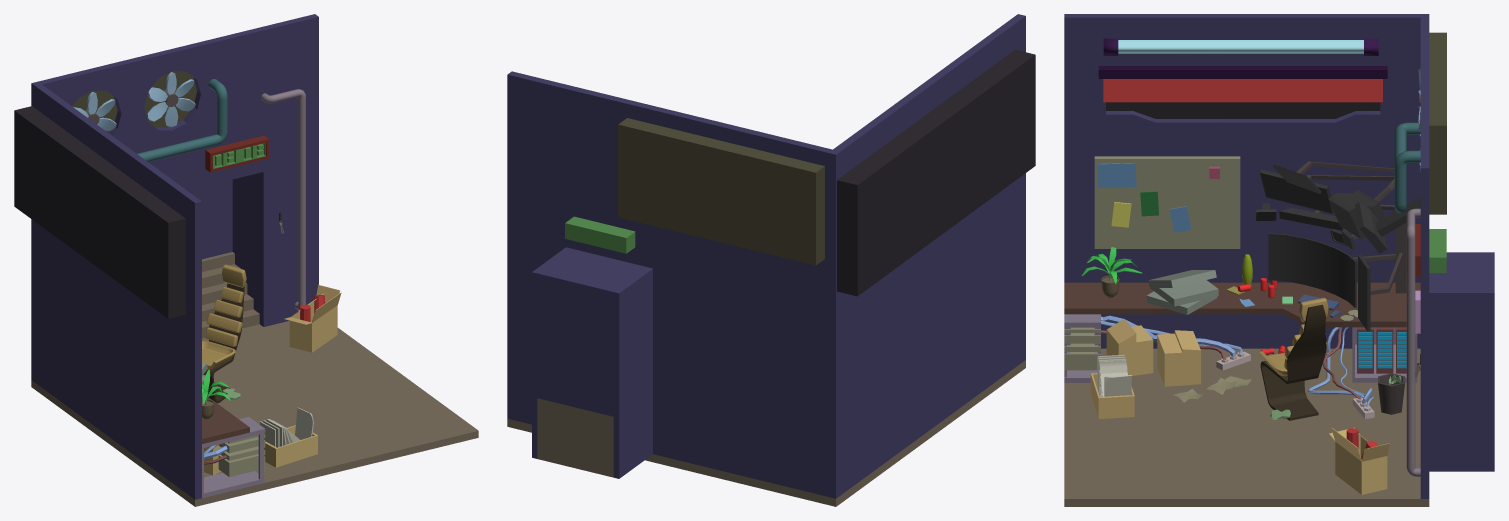
The model's file is isometric_room.glb.
The picture shows the model from 3 angles, left to right: view 1: azimuth 30°, elevation 25°; view 2: azimuth 150°, elevation 25°; view 3: azimuth 270°, elevation 25°; orthographic projection. The views are drawn at different scales.
Visible parts, largest first — view 1: Object_23, Object_22, Object_13, Object_46, Object_16, Object_25, Object_45, Object_29, Object_24, Object_43, Object_49, Object_31 (+4 smaller); view 2: Object_23, Object_13, Object_43, Object_22, Object_42; view 3: Object_23, Object_22, Object_49, Object_35, Object_31, Object_46, Object_10, Object_13, Object_17, Object_11, Object_26, Object_43 (+18 smaller).
Part boxes in pixels (<box>): Object_23: <box>31,14,318,499</box>; Object_22: <box>31,252,478,506</box>; Object_13: <box>14,106,185,318</box>; Object_46: <box>204,284,341,475</box>; Object_16: <box>202,264,246,369</box>; Object_25: <box>261,89,305,310</box>; Object_45: <box>73,72,195,130</box>; Object_29: <box>202,417,265,497</box>; Object_24: <box>137,79,227,161</box>; Object_43: <box>72,71,196,132</box>; Object_49: <box>205,399,265,476</box>; Object_31: <box>202,397,249,443</box>; Object_23: <box>507,14,1025,498</box>; Object_13: <box>837,49,1035,296</box>; Object_43: <box>618,118,824,265</box>; Object_22: <box>507,360,1025,506</box>; Object_42: <box>565,216,635,253</box>; Object_23: <box>1064,14,1494,498</box>; Object_22: <box>1064,348,1429,506</box>; Object_49: <box>1064,156,1357,370</box>; Object_35: <box>1256,164,1420,331</box>; Object_31: <box>1064,282,1420,327</box>; Object_46: <box>1090,319,1389,494</box>; Object_10: <box>1103,79,1382,102</box>; Object_13: <box>1106,102,1380,118</box>; Object_17: <box>1260,304,1326,420</box>; Object_11: <box>1098,66,1387,78</box>; Object_26: <box>1118,40,1363,53</box>; Object_43: <box>1429,32,1446,214</box>.
Bounding box in the file's own units: 10.61 × 10.22 × 11.77.
